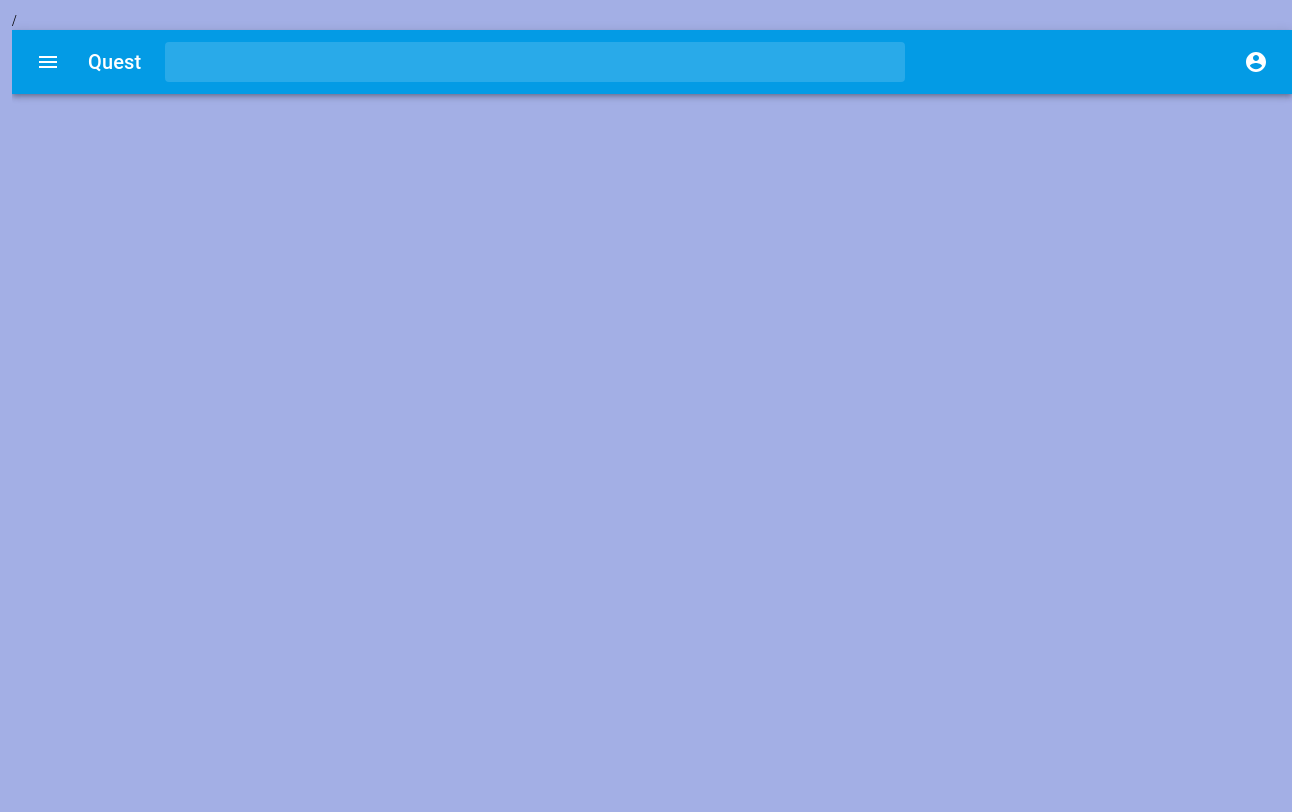
Test: header tests › renders header and drawer with logged in user
Expected: the element with test id "header-container" is shown, [12,30,1291,94]
What coordinates should you click on to do the following:
click the button with test id "open-drawer"
I would click on:
 (48, 62)
Its box is [24,38,72,86].
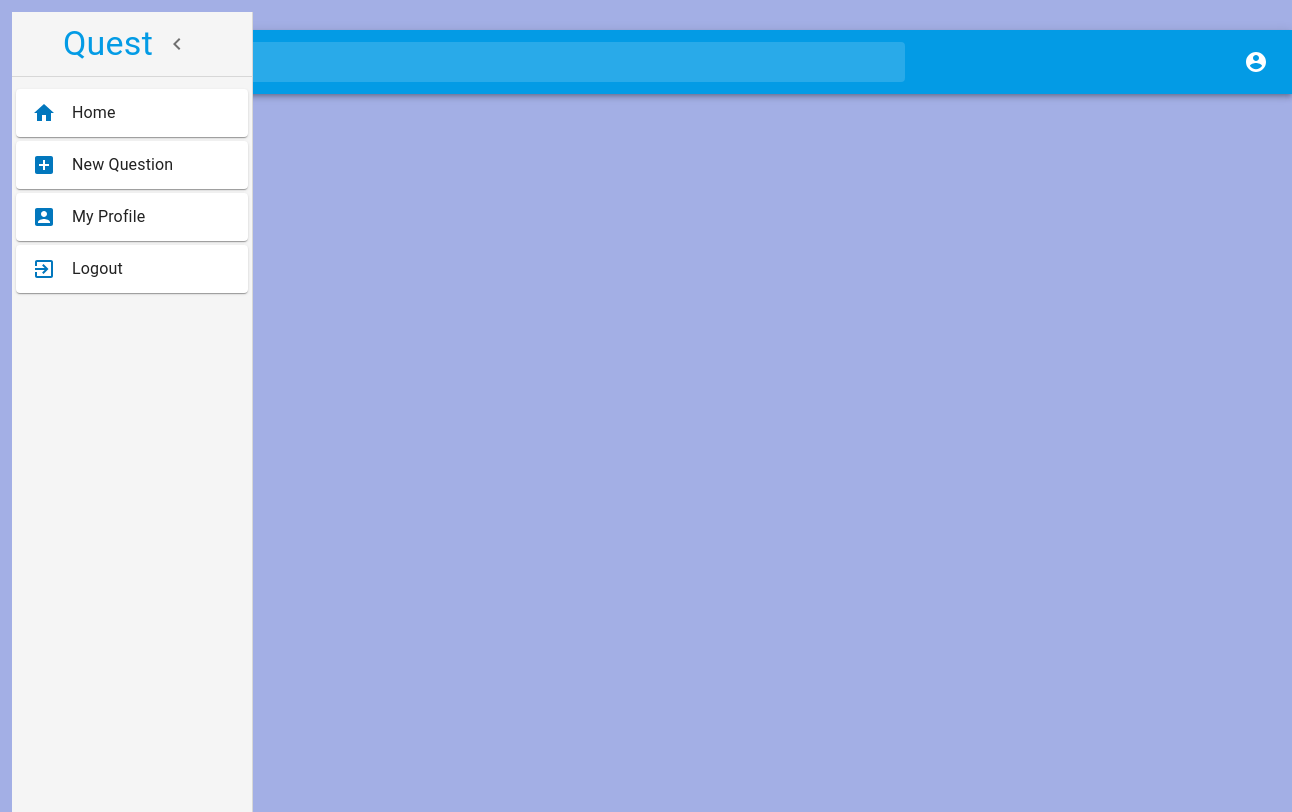
Expected: the element with test id "drawer-container" is shown, [63,20,201,68]
